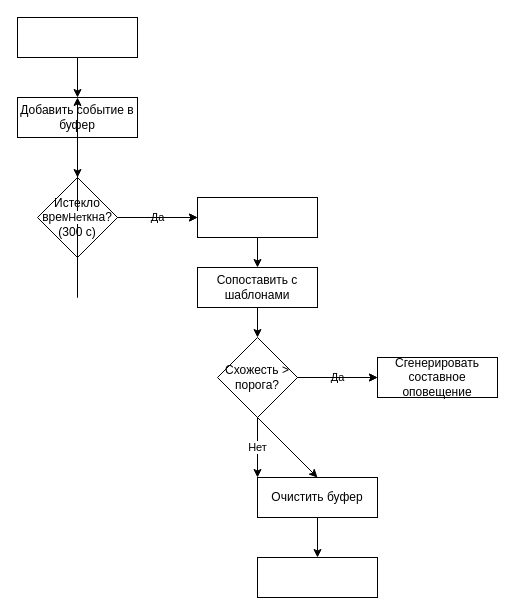
Image size: 515x615. Some labels were removed from this diagram. The box of each missing label's shape, as (x1, y1, x2, y2) in pixels:
Конец: (256, 556, 378, 598)
Построить метаграф: (196, 196, 318, 238)
Старт: событие Snort: (16, 16, 138, 58)
